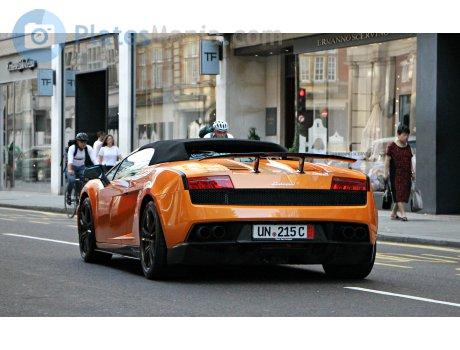License Plates: (256, 221, 308, 234)
